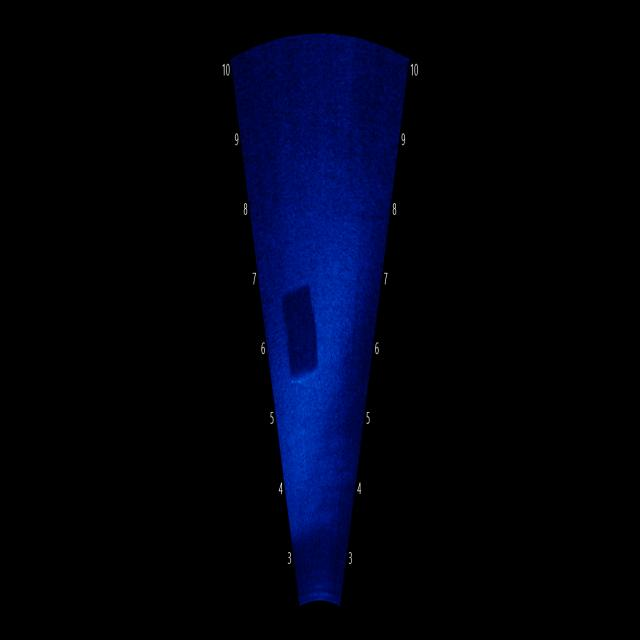square: (276, 264, 329, 409)
